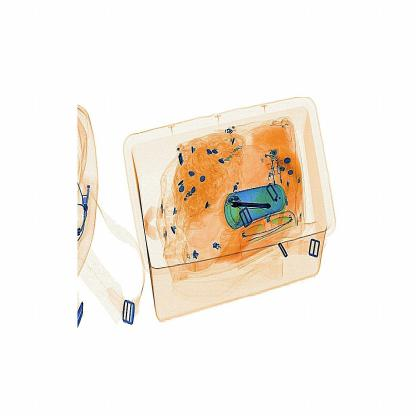knife: (224, 191, 275, 224)
